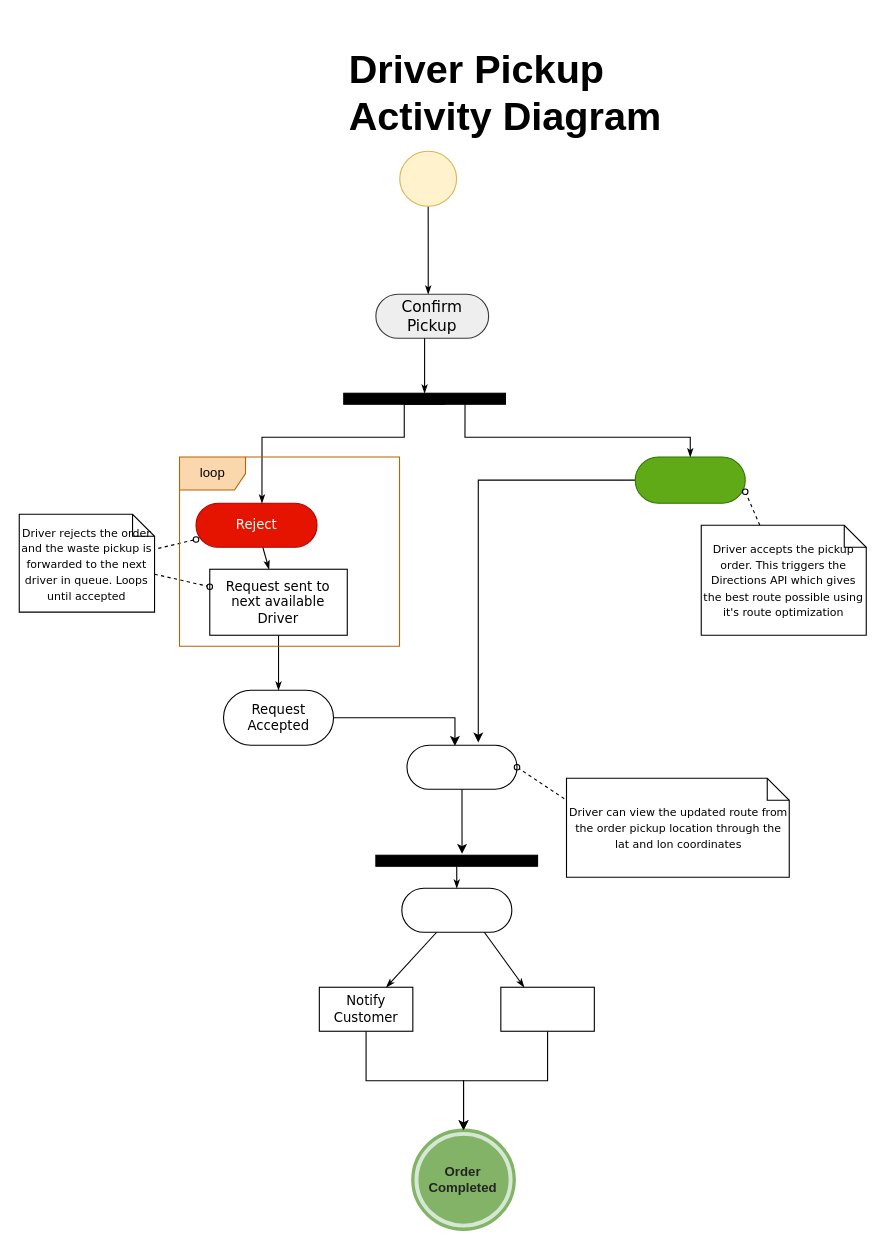
The diagram is 886 pixels wide and 1249 high, and some of its shapes have lost their labels. Here are the shapes that lost their labels. From the top down, the centre of each, then its label:
At pixel 428 178: "Start".
At pixel 689 479: "Accept".
At pixel 461 766: "Route updated".
At pixel 456 909: "Driver Arrived at Location".
At pixel 547 1008: "Rate pickup".
